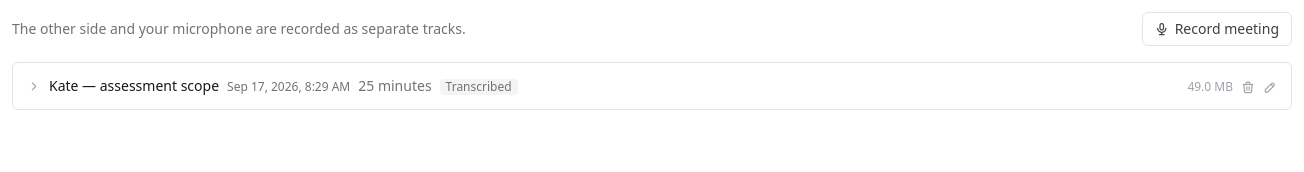
Scenario: deleting a whole meeting › abandons on Cancel and sends nothing
Check: the list with test id "meetings-list" is shown, box top-left (12, 62), bottom-right (1292, 110)
Click the button with test id "purge-start" at (1248, 86), box top-left (1241, 75), bottom-right (1255, 97)
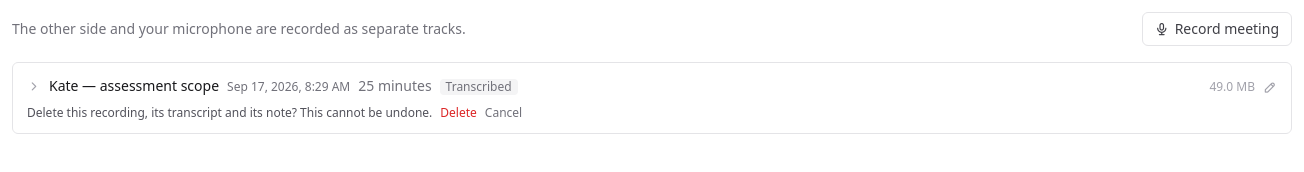
Click the button "Cancel" at (504, 113), box top-left (485, 105), bottom-right (522, 121)
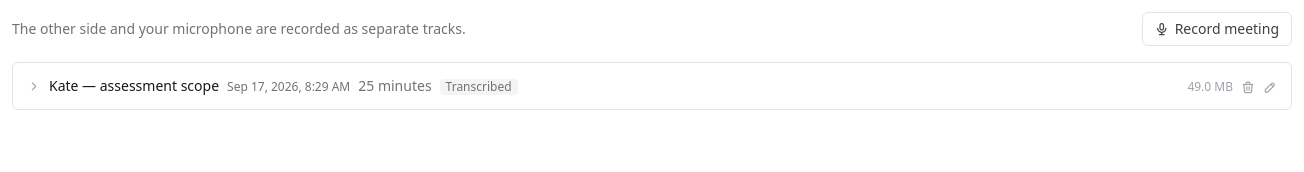
Check: the list item with test id "meeting-m-1" is shown, box top-left (12, 62), bottom-right (1292, 110)
Check: the element with test id "purge-confirm" is gone
